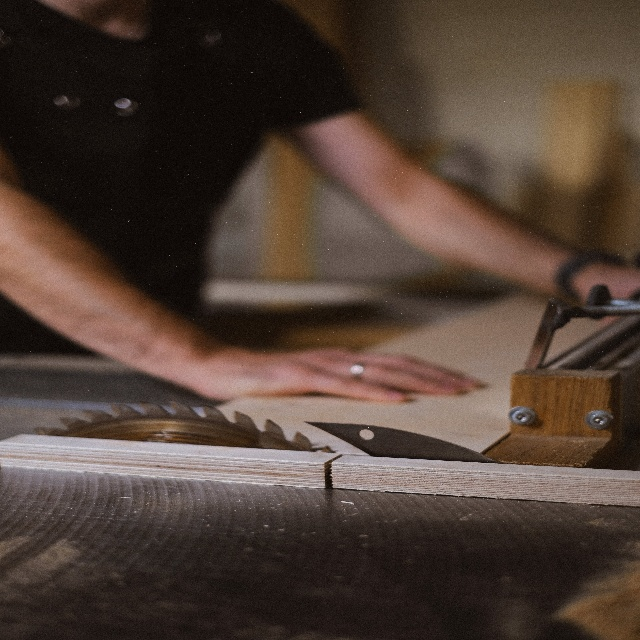Sin_guantes: (221, 342, 487, 402)
